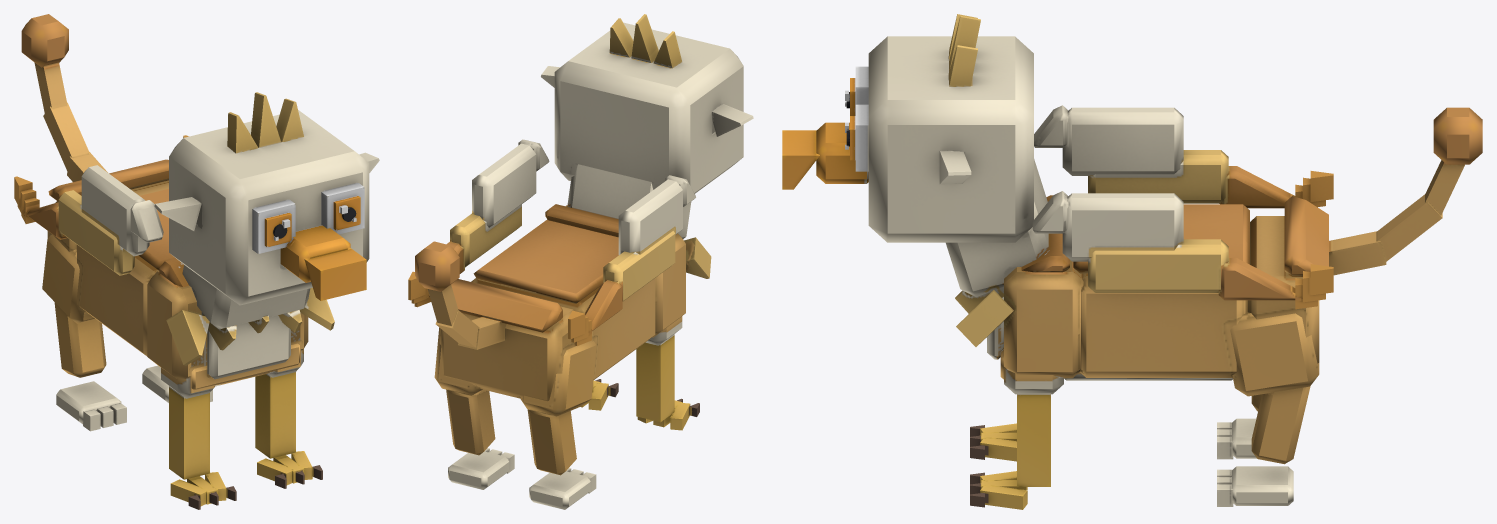
The model's file is BebeGriffon_Rig.fbx.
3 views of the same model, side by side, from view 1: azimuth 30°, elevation 25°; view 2: azimuth 150°, elevation 25°; view 3: azimuth 270°, elevation 25° (orthographic). The views are drawn at different scales.
Parts seen in each view (by area): view 1: Head, Body, WingR, LegBR, LegFR, Tail, LegFL, LegBL; view 2: Body, Head, WingR, LegBR, WingL, LegBL, Tail, LegFR, LegFL; view 3: Head, Body, WingL, WingR, LegBL, Tail, LegFL, LegFR, LegBR.
Part boxes in pixels (<box>): Head: <box>154,92,379,305</box>; Body: <box>47,159,334,390</box>; WingR: <box>14,165,163,275</box>; LegBR: <box>42,234,126,431</box>; LegFR: <box>161,347,236,509</box>; Tail: <box>21,14,107,181</box>; LegFL: <box>255,338,322,488</box>; LegBL: <box>142,365,212,402</box>; Body: <box>439,164,711,401</box>; Head: <box>541,14,753,193</box>; WingR: <box>568,175,695,345</box>; LegBR: <box>520,341,596,509</box>; WingL: <box>408,139,549,307</box>; LegBL: <box>434,327,514,489</box>; Tail: <box>415,241,506,349</box>; LegFR: <box>636,316,699,430</box>; LegFL: <box>580,379,618,410</box>; Head: <box>782,14,1033,242</box>; Body: <box>946,159,1328,380</box>; WingL: <box>1032,191,1333,309</box>; WingR: <box>1034,105,1333,208</box>; LegBL: <box>1217,312,1319,506</box>; Tail: <box>1329,107,1482,275</box>; LegFL: <box>970,367,1063,509</box>; LegFR: <box>970,423,1016,461</box>; LegBR: <box>1217,394,1261,459</box>.
Bounding box in the file's own units: 3.4 × 6 × 8.34.
1 material, 1 textured.
